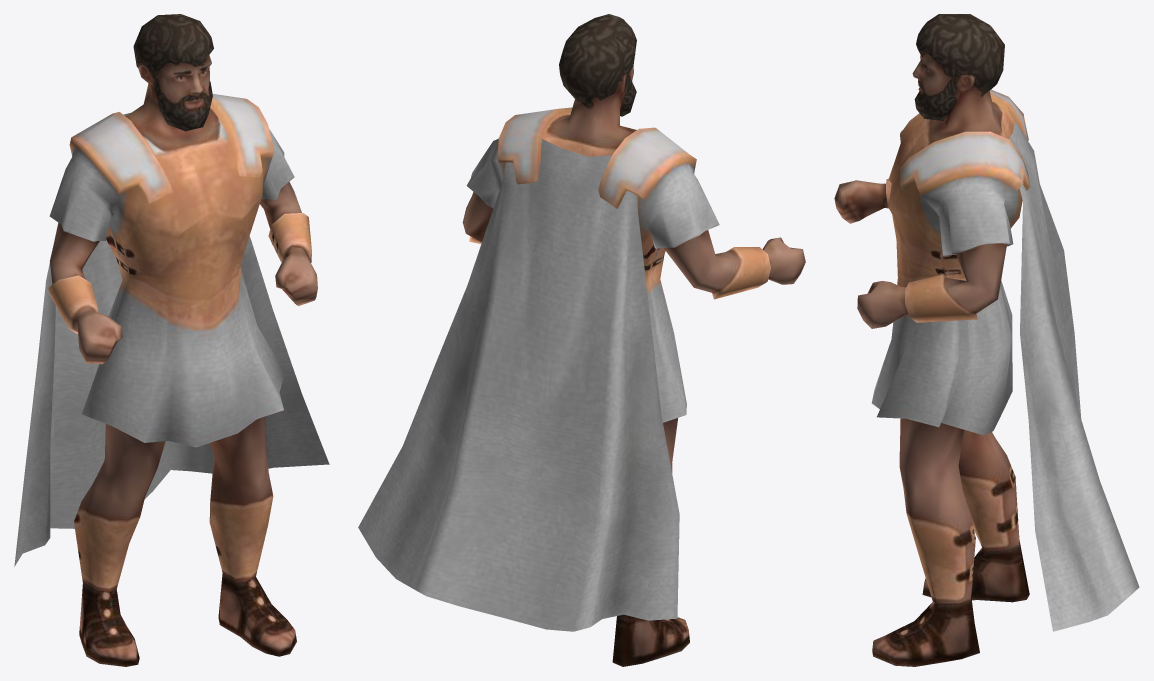
The model's file is body-mediuminfantry.glb.
3 views of the same model, side by side, from view 1: azimuth 30°, elevation 25°; view 2: azimuth 150°, elevation 25°; view 3: azimuth 270°, elevation 25° (orthographic). The views are drawn at different scales.
Size of the model in its own units: 1.22 by 2.06 by 0.9403.
1 material, 1 textured.
